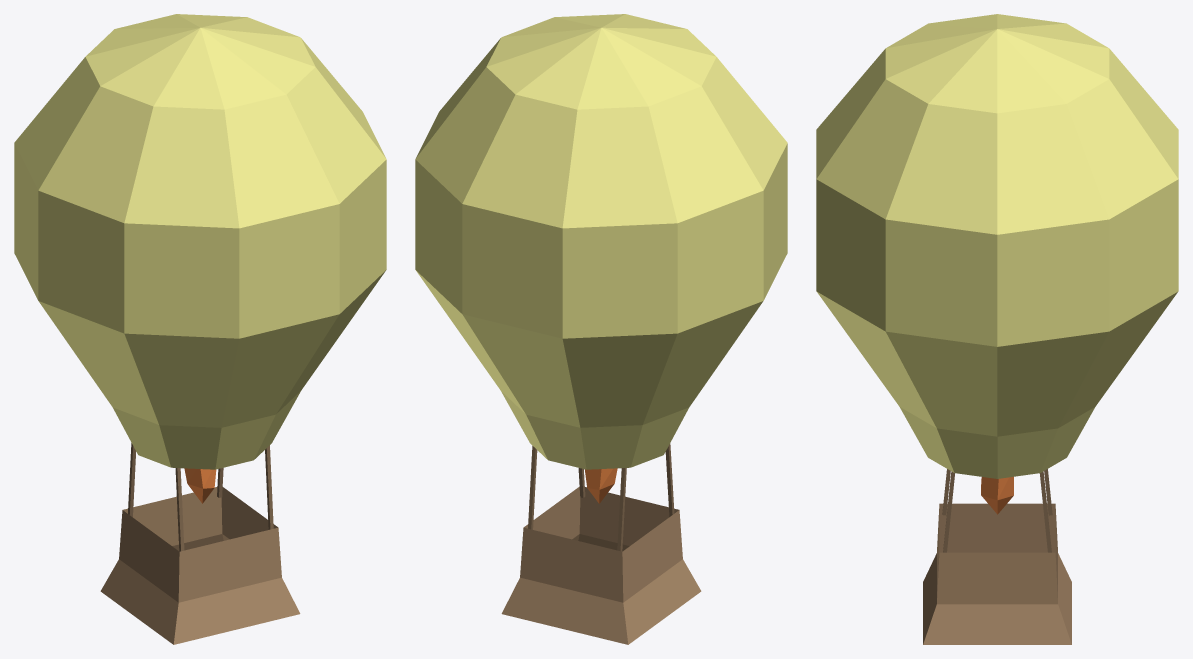
File: hot air balloon.fbx
The picture shows the model from 3 angles, left to right: view 1: azimuth 30°, elevation 25°; view 2: azimuth 150°, elevation 25°; view 3: azimuth 270°, elevation 25°; orthographic projection.
Visible parts, largest first — view 1: Ballon, Korb, Seile, Feuer; view 2: Ballon, Korb, Seile, Feuer; view 3: Ballon, Korb, Seile, Feuer.
Boxes of the visible parts, bbox=[...] form: Ballon: bbox=[14, 14, 386, 469]; Korb: bbox=[100, 487, 300, 644]; Seile: bbox=[128, 443, 273, 551]; Feuer: bbox=[184, 468, 216, 503]; Ballon: bbox=[415, 14, 787, 469]; Korb: bbox=[501, 486, 701, 644]; Seile: bbox=[528, 443, 674, 551]; Feuer: bbox=[584, 468, 617, 503]; Ballon: bbox=[816, 14, 1178, 478]; Korb: bbox=[923, 503, 1071, 644]; Seile: bbox=[942, 469, 1052, 552]; Feuer: bbox=[981, 476, 1013, 514].
Size of the model in its own units: 111 by 188 by 105.
